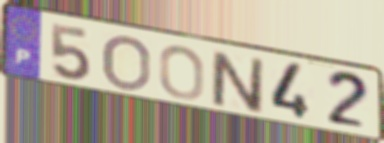2: (323, 70, 374, 137)
4: (268, 59, 317, 125)
5: (49, 21, 94, 82)
N: (208, 48, 266, 116)
O: (100, 33, 153, 93), (157, 44, 207, 102)
